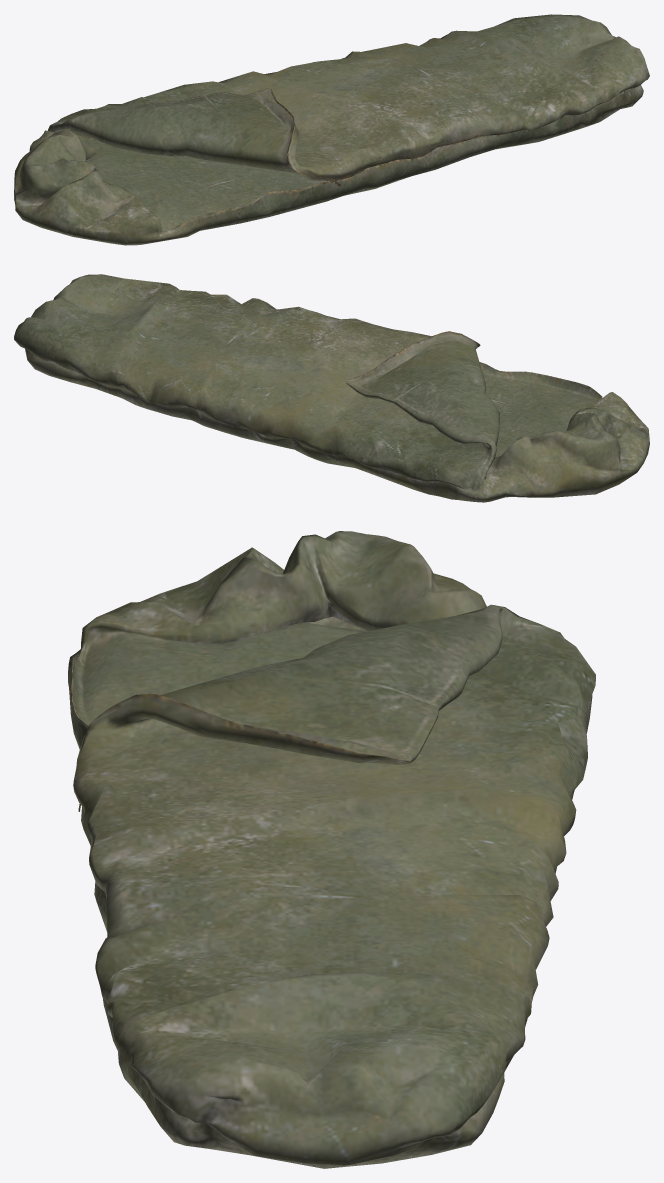
File: 238_sleepingbag01c.fbx
3 views of the same model, one above another, from view 1: azimuth 30°, elevation 25°; view 2: azimuth 150°, elevation 25°; view 3: azimuth 270°, elevation 25° (orthographic). The views are drawn at different scales.
Visible parts, largest first — view 1: LOD_1_Group_0_Sub_1__sm32_188_SleepingBag01A_A_Mat; view 2: LOD_1_Group_0_Sub_1__sm32_188_SleepingBag01A_A_Mat; view 3: LOD_1_Group_0_Sub_1__sm32_188_SleepingBag01A_A_Mat.
Boxes of the visible parts, x1,y1,x2,y2 form: LOD_1_Group_0_Sub_1__sm32_188_SleepingBag01A_A_Mat: (14,14,649,245); LOD_1_Group_0_Sub_1__sm32_188_SleepingBag01A_A_Mat: (14,274,649,502); LOD_1_Group_0_Sub_1__sm32_188_SleepingBag01A_A_Mat: (68,531,595,1168).
Size of the model in its own units: 1.96 by 0.2318 by 0.7515.
